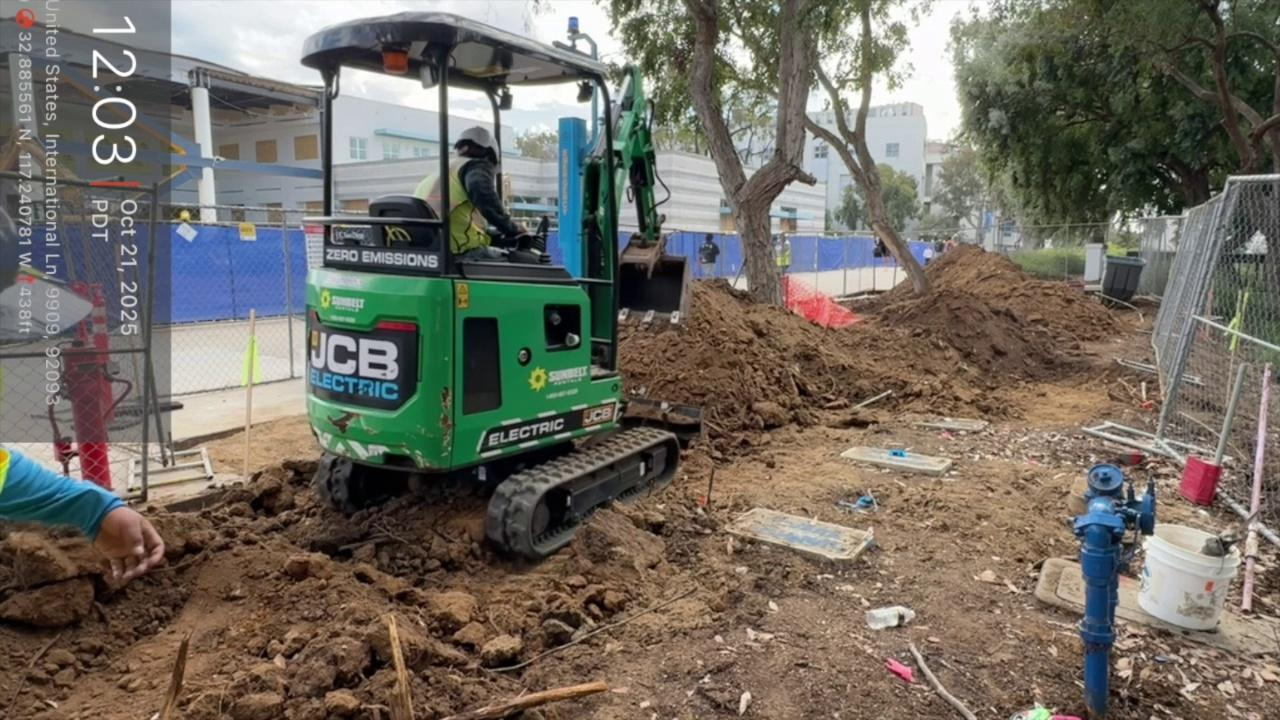Exacavator: (296, 9, 704, 560)
